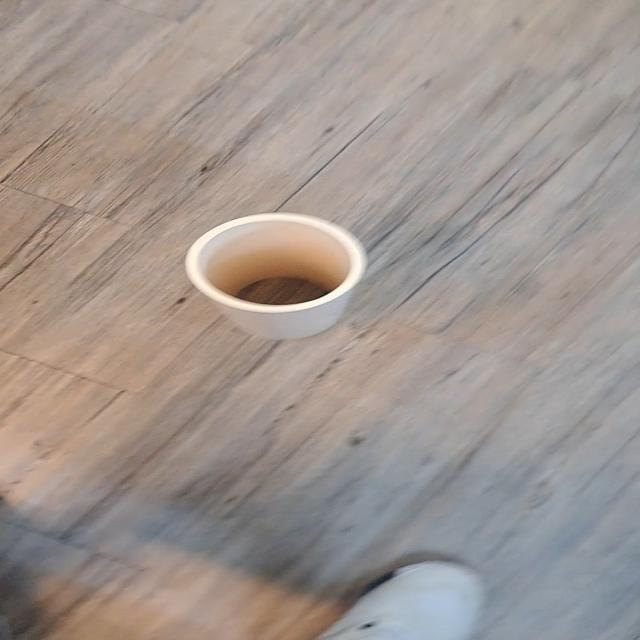CORAL: (152, 200, 392, 348)
